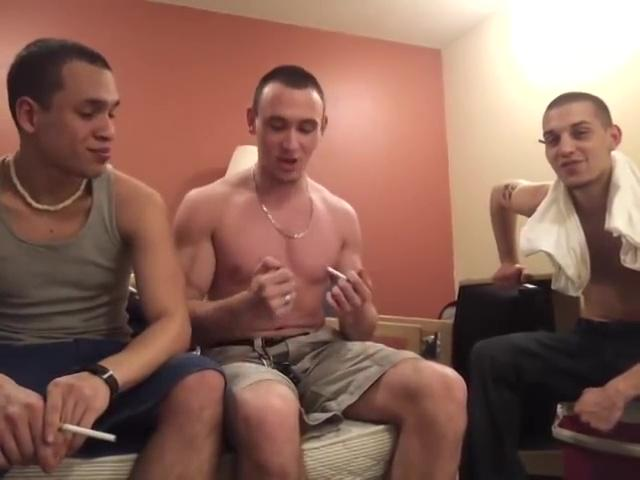cigarette: (56, 418, 119, 444), (326, 261, 354, 284)
